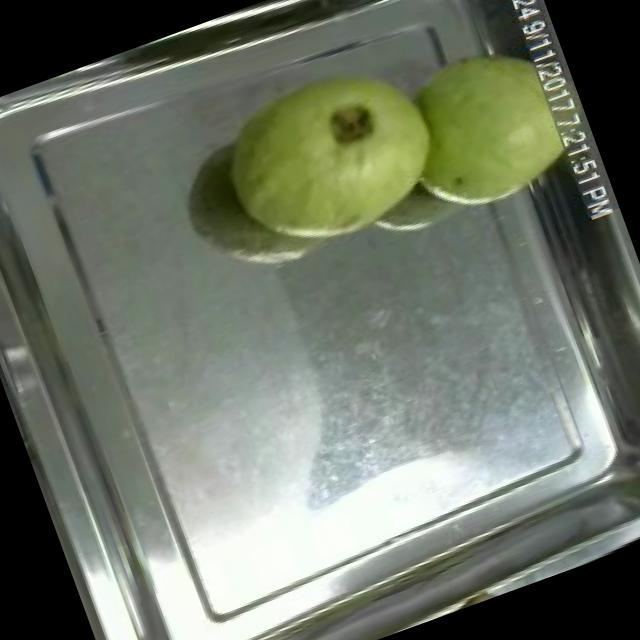Fruit: (191, 25, 470, 280), (376, 21, 596, 235)
